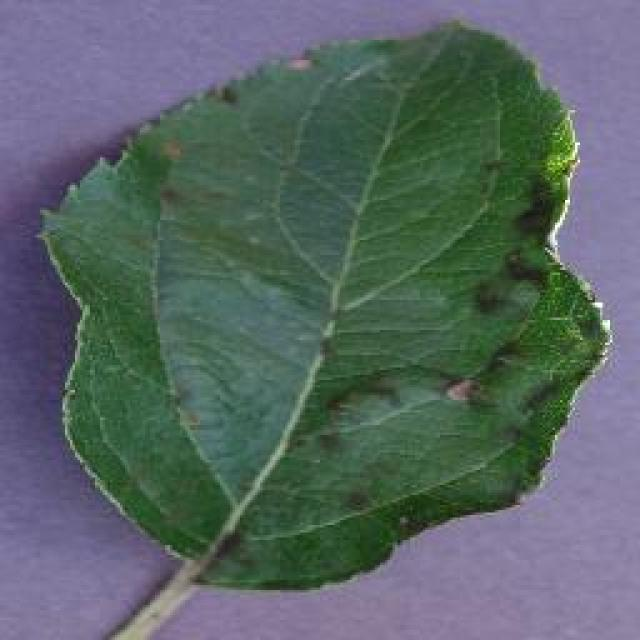App_scab: (427, 179, 572, 425), (140, 84, 249, 216)
